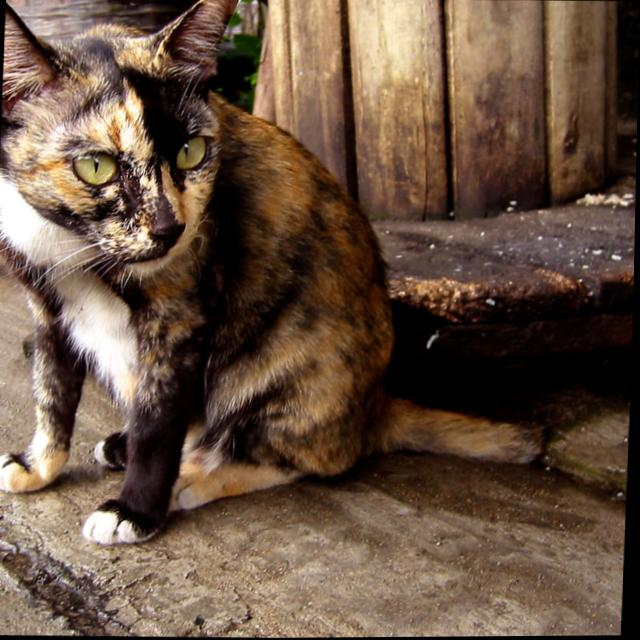animals: (0, 0, 230, 246)
